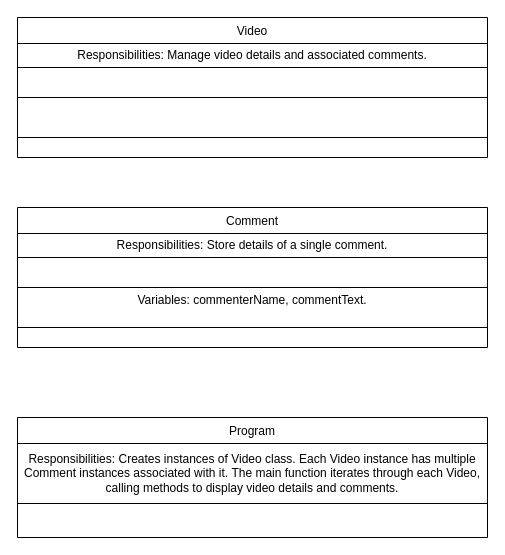
Image size: 505x555. Some labels were removed from this diagram. The shapes that lost their labels are listed below. From the top down, each one's centre as x and y in pixels, then its label:
the point at 252,82: Methods: addComment, getNumberOfComments, displayVideoDetails.
the point at 252,117: Variables: title, author, length, comments (list of Comment objects).
the point at 252,272: Methods: None specific, mainly used for data storage.
